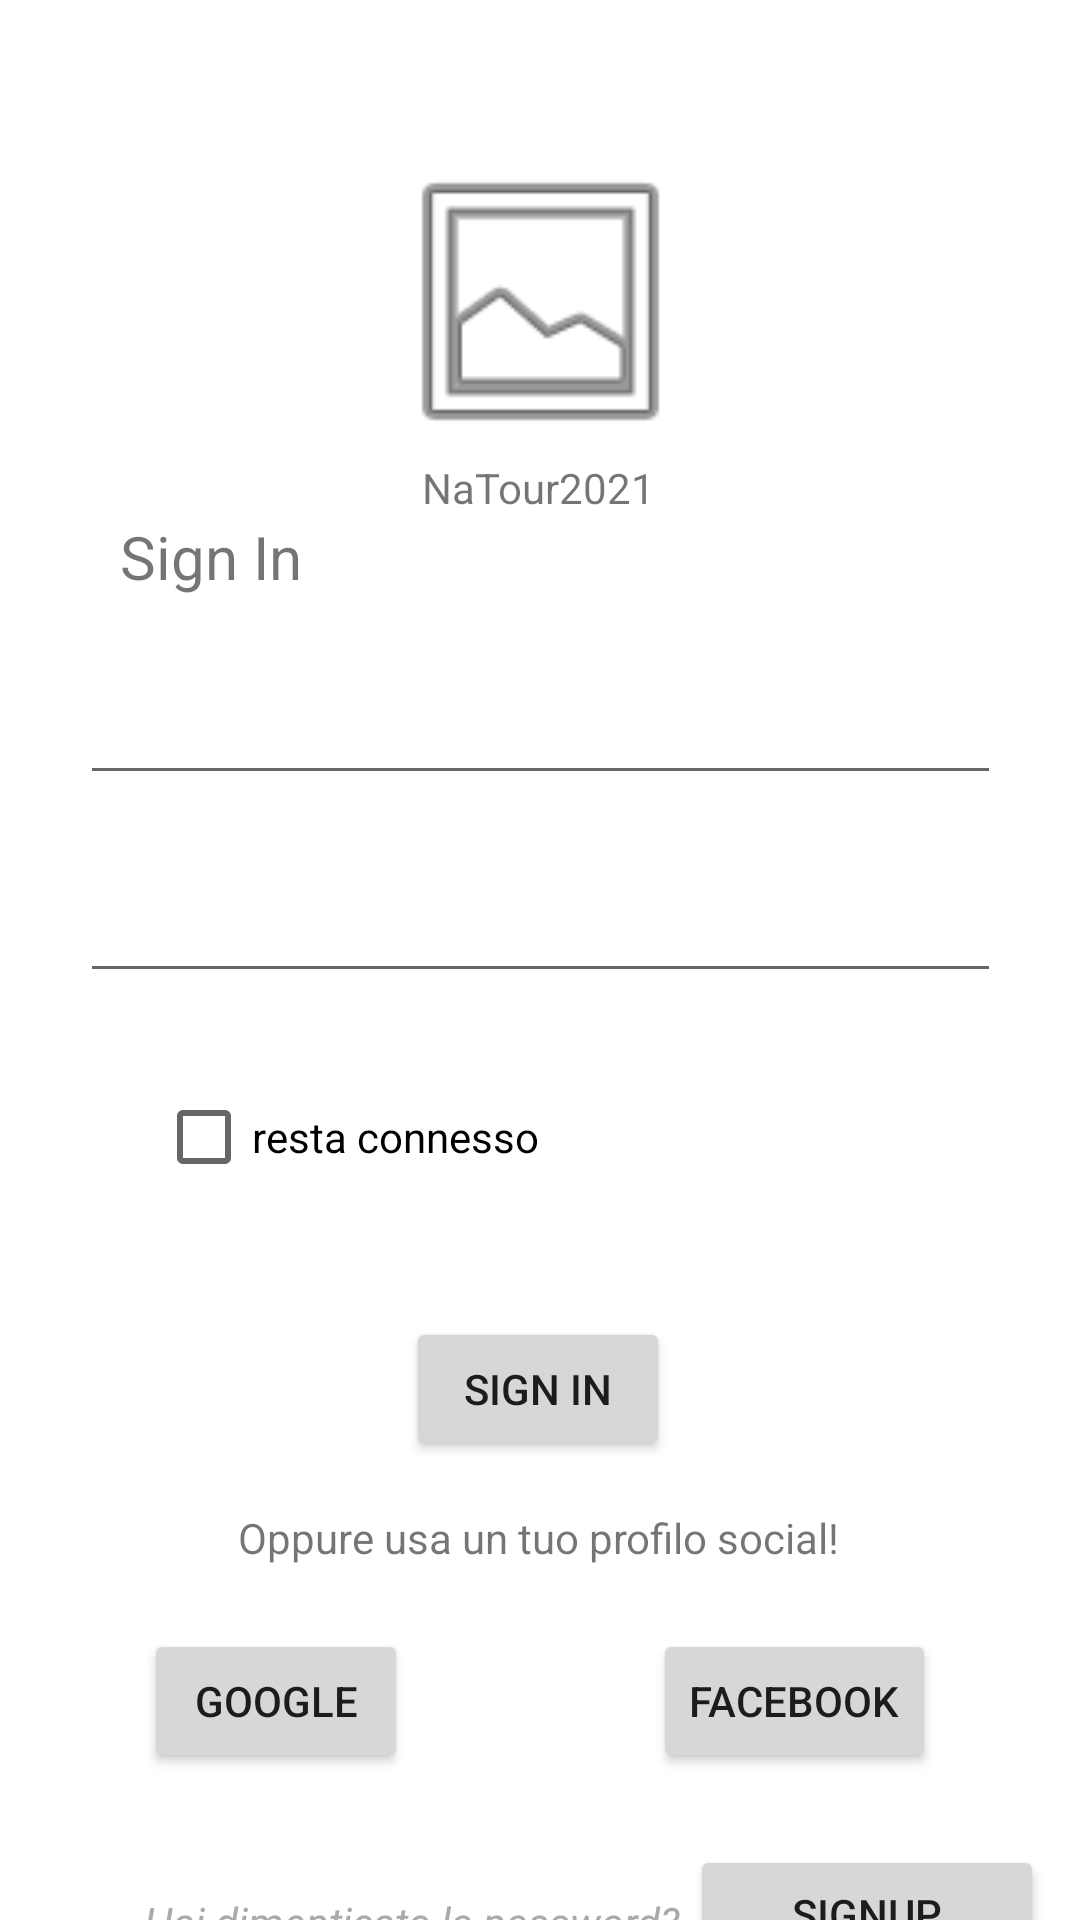

Icon click points for this 1080 x 1920 phone screenshot, format point (x, y):
gallery: point (540, 301)
